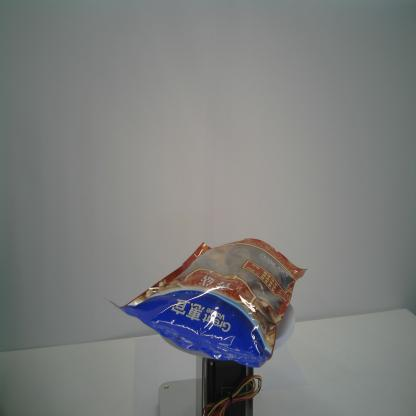Dried Food: (107, 236, 309, 369)
